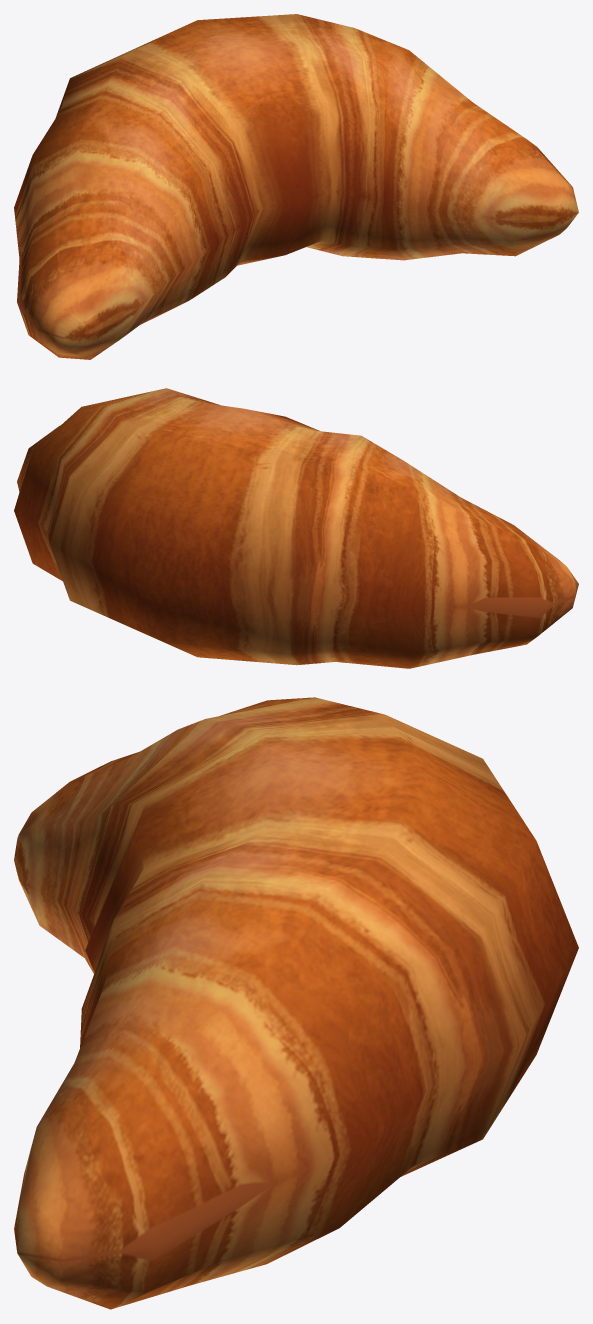
Rendered from Croissant_02.fbx.
The picture shows the model from 3 angles, top to bottom: view 1: azimuth 30°, elevation 25°; view 2: azimuth 150°, elevation 25°; view 3: azimuth 270°, elevation 25°; orthographic projection. The views are drawn at different scales.
Parts seen in each view (by area): view 1: Croissant_02; view 2: Croissant_02; view 3: Croissant_02.
Boxes of the visible parts, bbox=[...] form: Croissant_02: bbox=[14, 14, 578, 359]; Croissant_02: bbox=[14, 388, 578, 668]; Croissant_02: bbox=[14, 697, 578, 1309].
Size of the model in its own units: 49.54 by 19.55 by 27.42.
